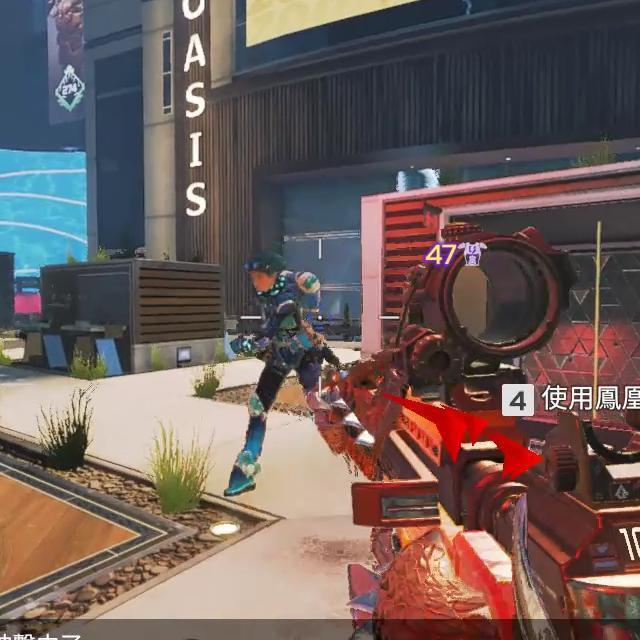avatar: (222, 248, 323, 499)
